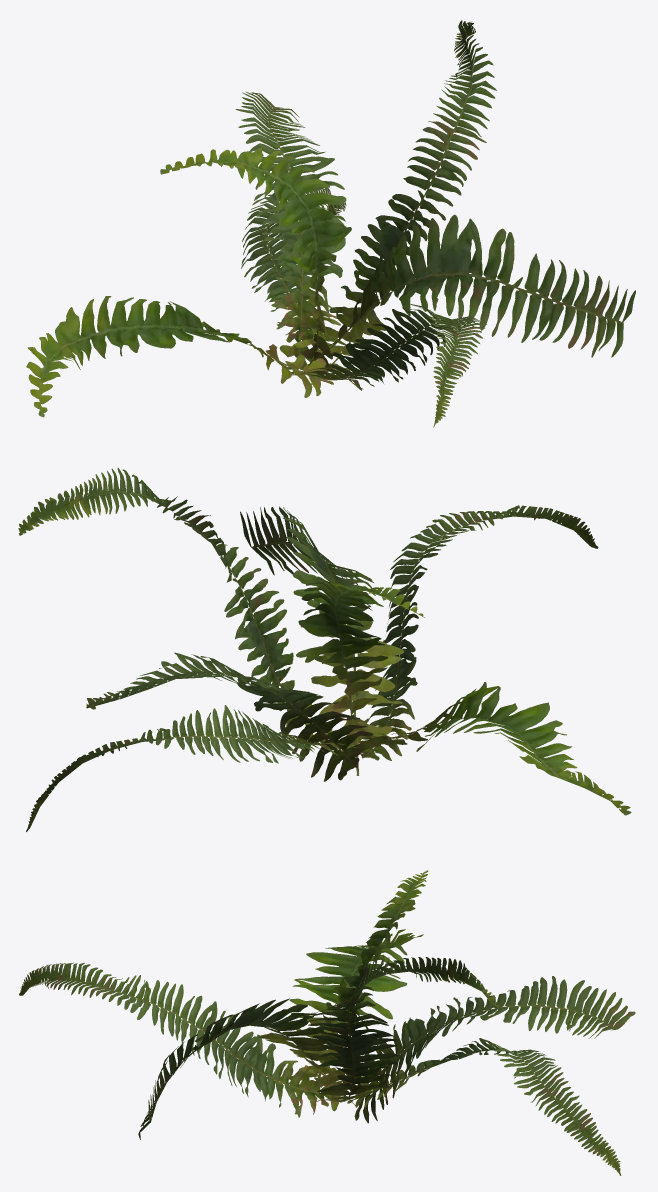
Rendered from fern-02-a.glb.
3 views of the same model, one above another, from view 1: azimuth 30°, elevation 25°; view 2: azimuth 150°, elevation 25°; view 3: azimuth 270°, elevation 25° (orthographic). The views are drawn at different scales.
Parts seen in each view (by area): view 1: fern_02_a; view 2: fern_02_a; view 3: fern_02_a.
Part boxes in pixels (left/top/right/bottom): fern_02_a: left=26, top=20, right=635, bottom=427; fern_02_a: left=18, top=468, right=631, bottom=831; fern_02_a: left=19, top=870, right=635, bottom=1175.
Size of the model in its own units: 0.5519 by 0.2868 by 0.6134.
1 material, 1 textured.
